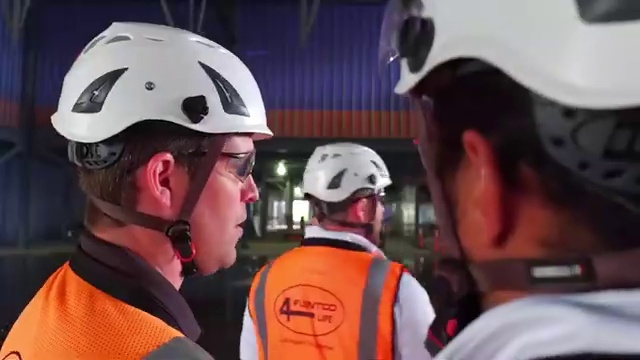helmet: (369, 1, 639, 126), (44, 14, 277, 153), (301, 142, 393, 202)
jacket: (243, 239, 419, 360), (3, 277, 210, 360)
